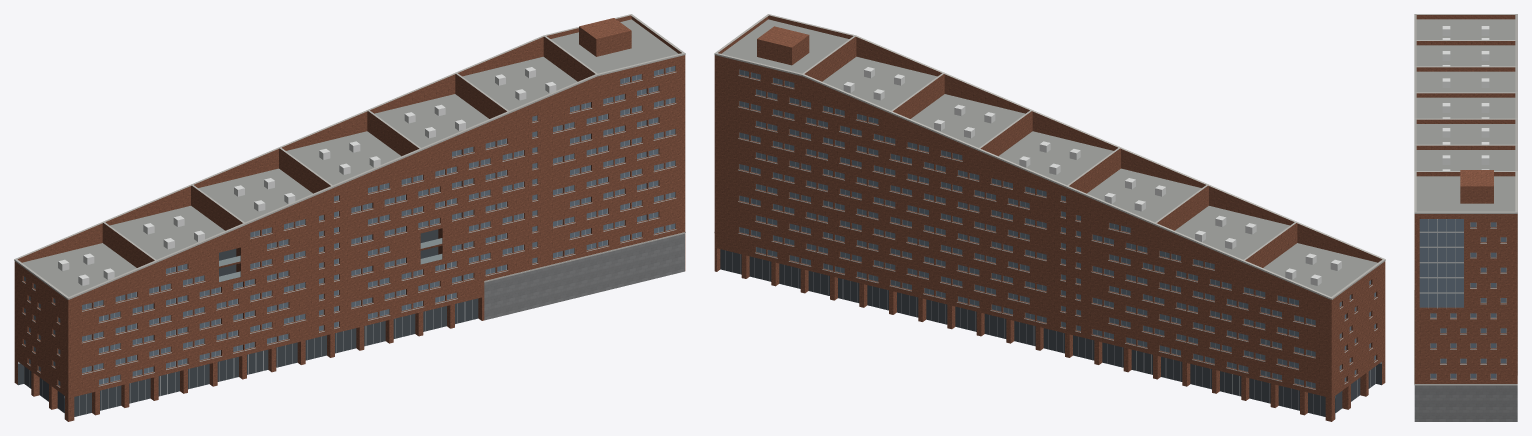
The picture shows the model from 3 angles, left to right: view 1: azimuth 30°, elevation 25°; view 2: azimuth 150°, elevation 25°; view 3: azimuth 270°, elevation 25°; orthographic projection. The views are drawn at different scales.
Parts seen in each view (by area): view 1: dormD__brick, dormD__roof, dormD__glass, dormD__granite, dormD__glassDark, dormD__reveal, dormD__frame, dormD__coping, dormD__sill, dormD__unit, dormD__core; view 2: dormD__brick, dormD__roof, dormD__glass, dormD__glassDark, dormD__reveal, dormD__frame, dormD__coping, dormD__sill, dormD__unit, dormD__core; view 3: dormD__brick, dormD__roof, dormD__glass, dormD__granite, dormD__coping, dormD__unit, dormD__frame, dormD__core, dormD__sill, dormD__reveal.
Part boxes in pixels (x1=…): dormD__brick: x1=14, y1=15, x2=685, y2=421; dormD__roof: x1=22, y1=19, x2=678, y2=296; dormD__glass: x1=24, y1=66, x2=674, y2=385; dormD__granite: x1=484, y1=233, x2=684, y2=320; dormD__glassDark: x1=18, y1=229, x2=478, y2=418; dormD__reveal: x1=22, y1=65, x2=675, y2=386; dormD__frame: x1=18, y1=66, x2=675, y2=415; dormD__coping: x1=14, y1=14, x2=685, y2=299; dormD__sill: x1=22, y1=71, x2=676, y2=387; dormD__unit: x1=58, y1=67, x2=556, y2=285; dormD__core: x1=579, y1=18, x2=631, y2=56; dormD__brick: x1=714, y1=15, x2=1385, y2=421; dormD__roof: x1=721, y1=19, x2=1377, y2=296; dormD__glass: x1=739, y1=69, x2=1375, y2=388; dormD__glassDark: x1=720, y1=249, x2=1381, y2=418; dormD__reveal: x1=738, y1=69, x2=1377, y2=389; dormD__frame: x1=725, y1=69, x2=1381, y2=415; dormD__coping: x1=714, y1=14, x2=1385, y2=299; dormD__sill: x1=738, y1=75, x2=1377, y2=389; dormD__unit: x1=843, y1=67, x2=1341, y2=285; dormD__core: x1=757, y1=26, x2=809, y2=65; dormD__brick: x1=1414, y1=15, x2=1517, y2=383; dormD__roof: x1=1416, y1=19, x2=1515, y2=211; dormD__glass: x1=1419, y1=219, x2=1506, y2=378; dormD__granite: x1=1414, y1=385, x2=1517, y2=421; dormD__coping: x1=1414, y1=14, x2=1517, y2=385; dormD__unit: x1=1442, y1=26, x2=1489, y2=170; dormD__frame: x1=1419, y1=219, x2=1506, y2=378; dormD__core: x1=1460, y1=170, x2=1493, y2=203; dormD__sill: x1=1414, y1=214, x2=1517, y2=379; dormD__reveal: x1=1420, y1=227, x2=1506, y2=379.
Bounding box in the file's own units: 123 × 43.9 × 18.65.
13 materials, 4 textured.
